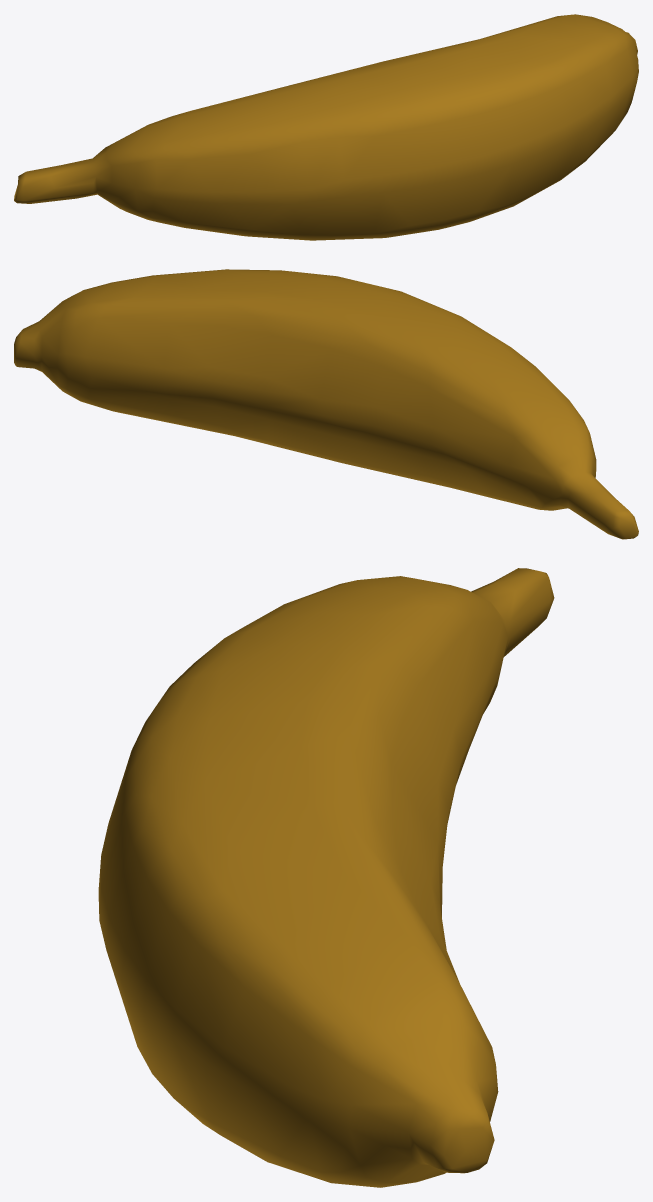
File: banana.obj
3 views of the same model, one above another, from view 1: azimuth 30°, elevation 25°; view 2: azimuth 150°, elevation 25°; view 3: azimuth 270°, elevation 25° (orthographic). The views are drawn at different scales.
Visible parts, largest first — view 1: Cube.002; view 2: Cube.002; view 3: Cube.002.
Boxes of the visible parts, x1=… form: Cube.002: x1=14, y1=14, x2=638, y2=240; Cube.002: x1=14, y1=269, x2=638, y2=539; Cube.002: x1=98, y1=568, x2=554, y2=1187.
Bounding box in the file's own units: 9.54 × 2.23 × 3.13.
